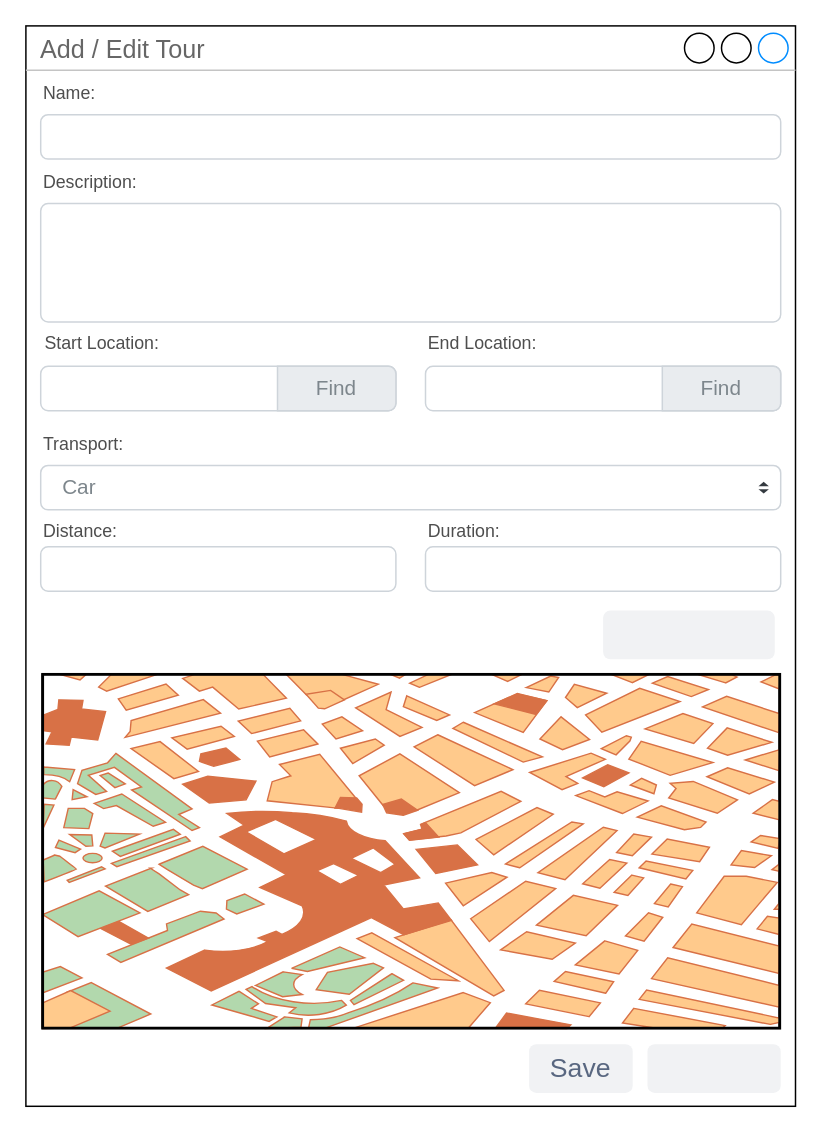
The diagram is 821 pixels wide and 1132 high, and some of its shapes have lost their labels. The centre of each missing label's shape, as x and y in pixels:
"Calculate Route" belongs at point 688,634.
"Cancel" belongs at point 713,1067.
